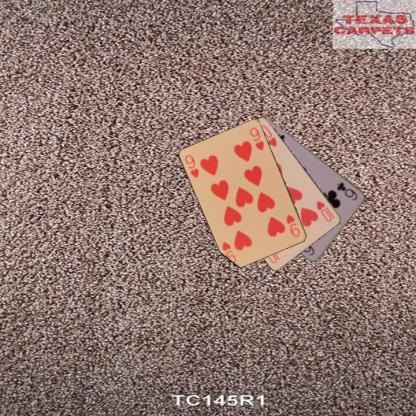10h: (314, 198, 336, 223)
6c: (334, 180, 359, 202)
9h: (182, 152, 200, 179), (284, 212, 301, 238)
